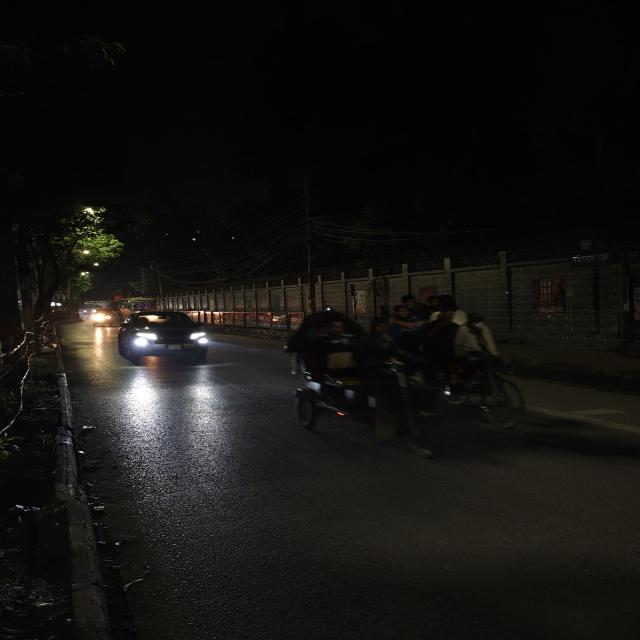bus: (120, 297, 162, 313)
car: (114, 310, 216, 366)
cng: (88, 304, 116, 328)
rickshaw: (378, 293, 530, 435), (275, 325, 421, 454)
